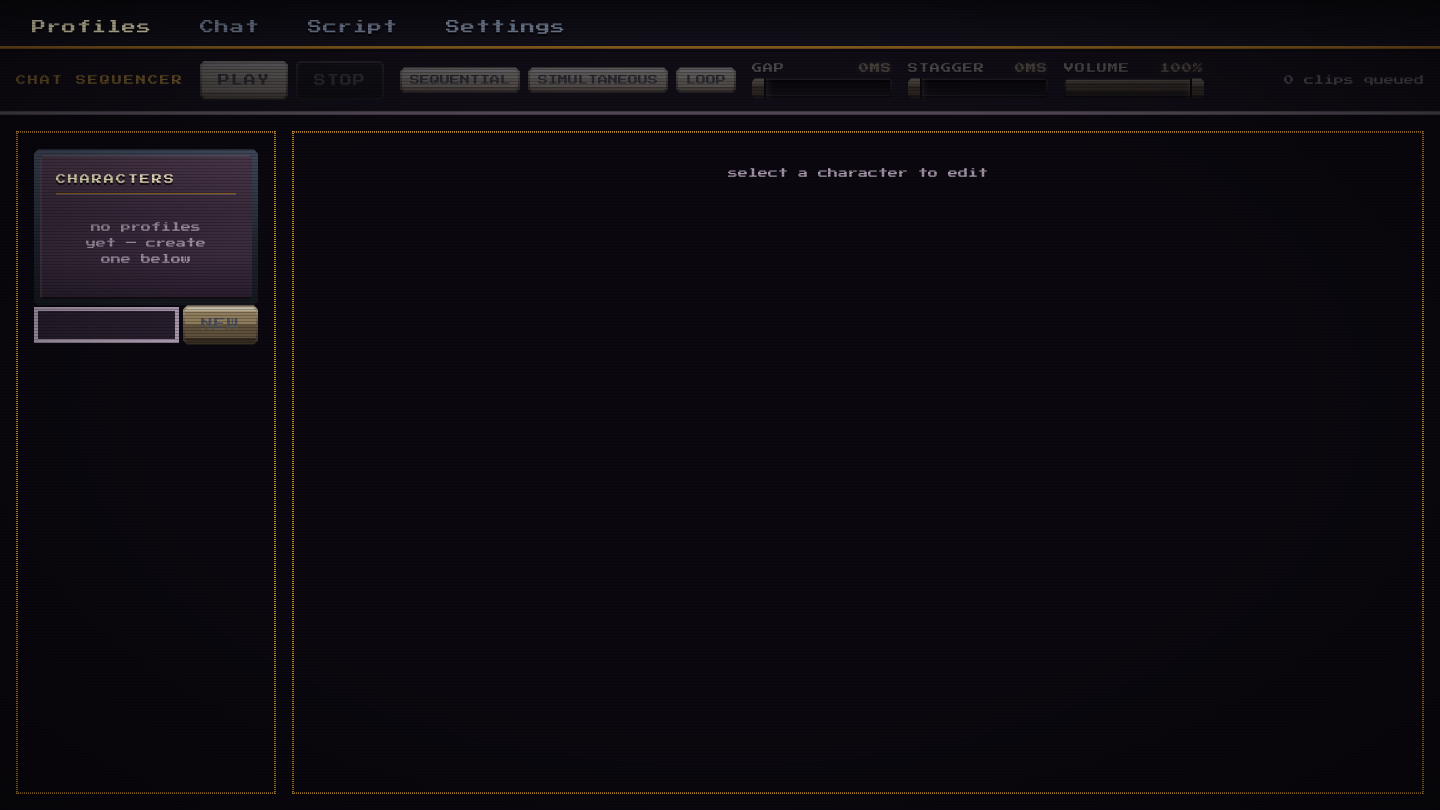
Test: App › switches to the Script placeholder
Click the tab "Script": x=353, y=27 [292,8,414,46]
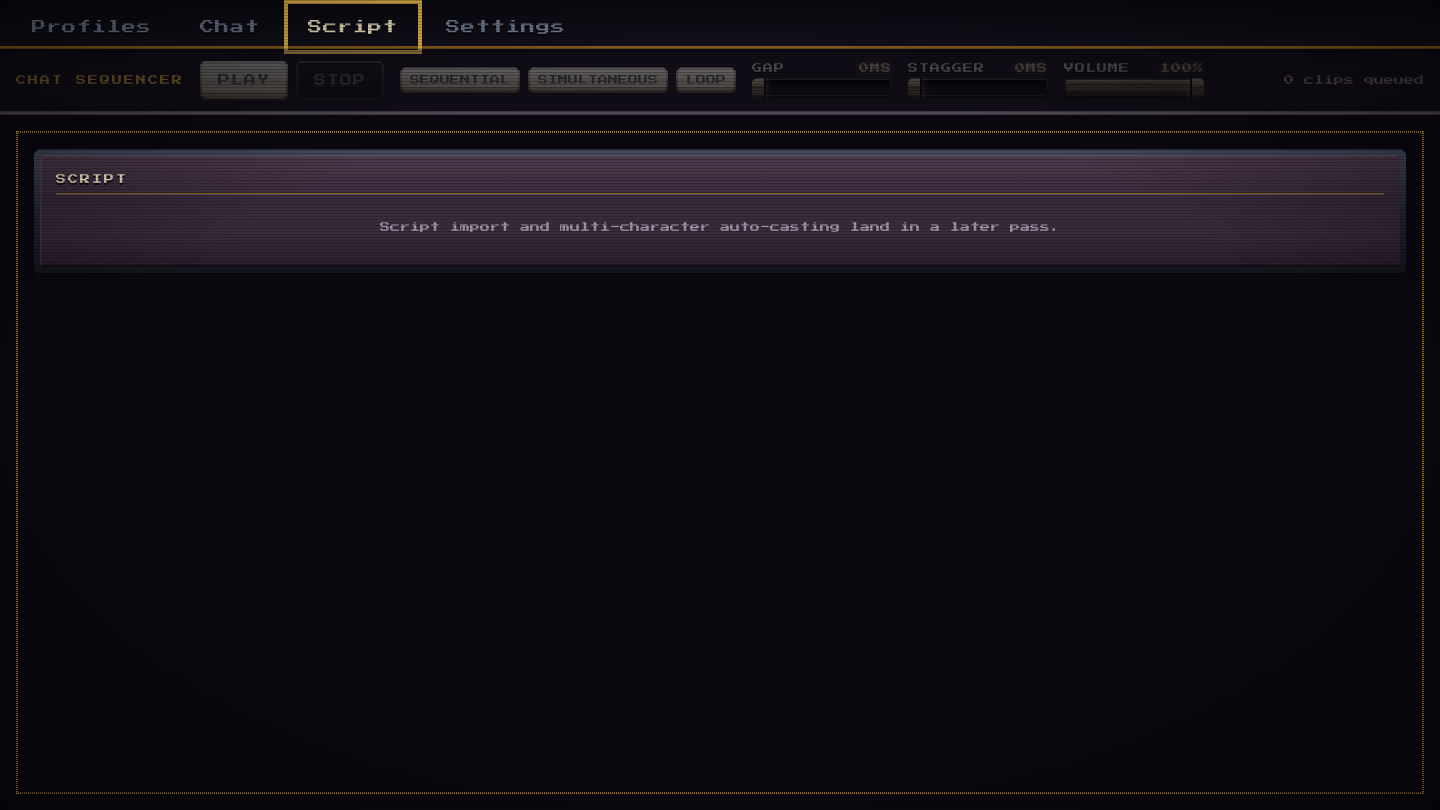
Expected: the text "later pass" is shown, [380,222,1060,232]
